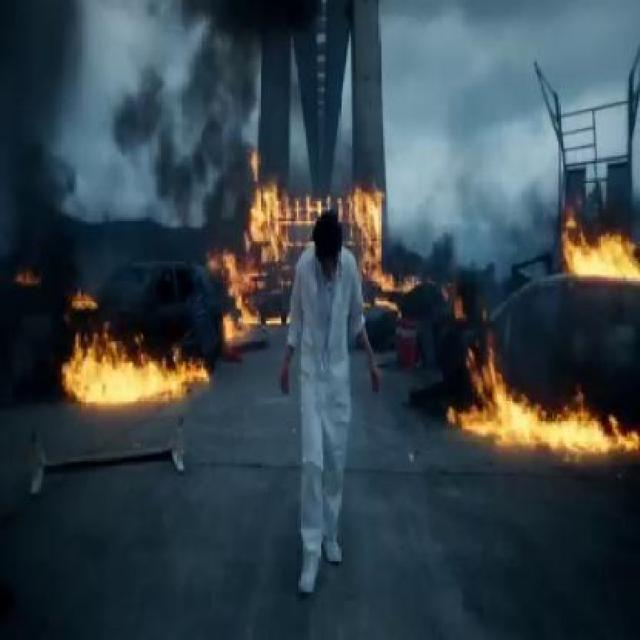fire: (451, 334, 640, 478), (63, 328, 212, 414), (212, 180, 286, 334), (560, 207, 638, 275), (348, 183, 397, 291)
smoke: (110, 1, 259, 237), (1, 2, 77, 290), (444, 102, 558, 284), (306, 92, 388, 183)
